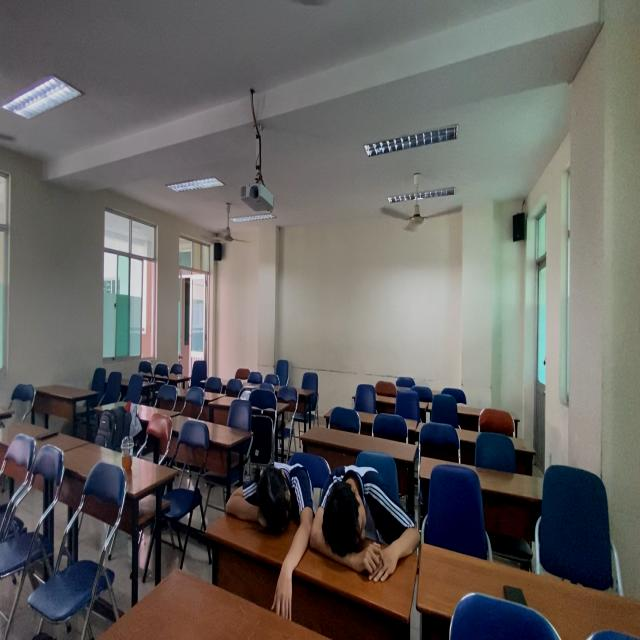sleep: (304, 453, 423, 592), (224, 438, 309, 561)
